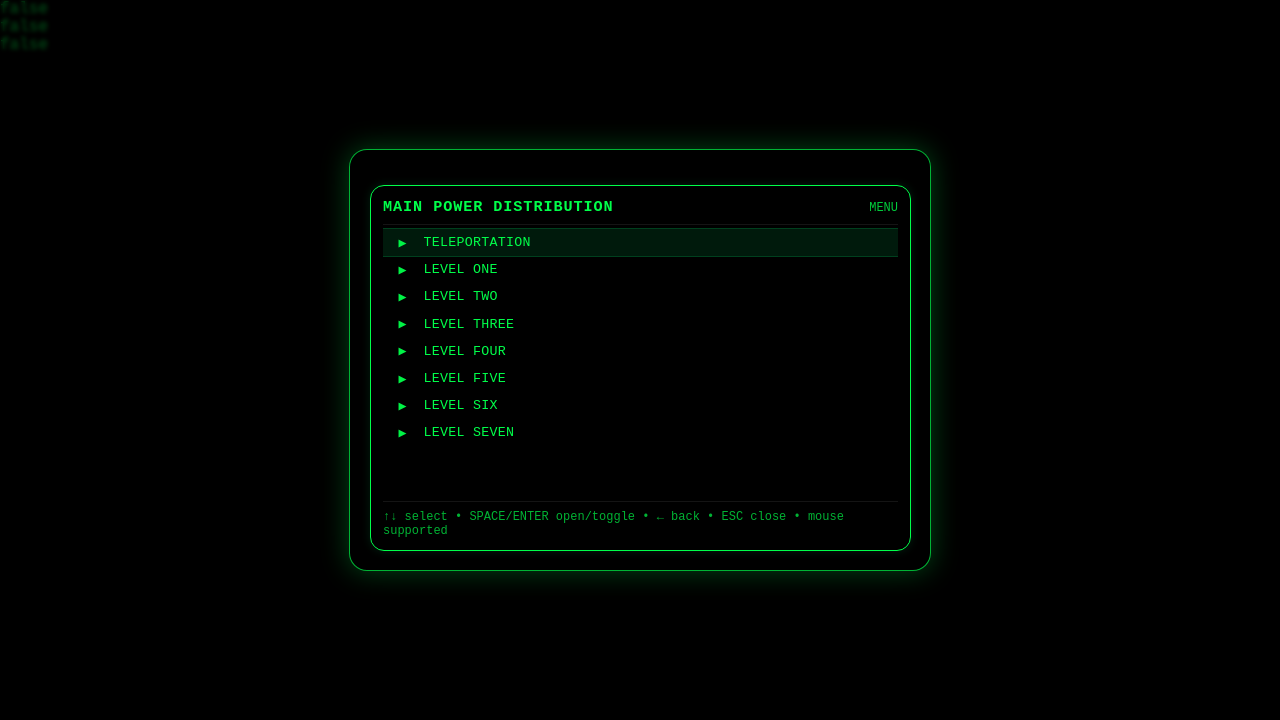
Power station terminal › can turn a normal power section on and off through the menu
Click the option "▶ LEVEL FIVE".
click(465, 379)  # box [383,365,898,392]
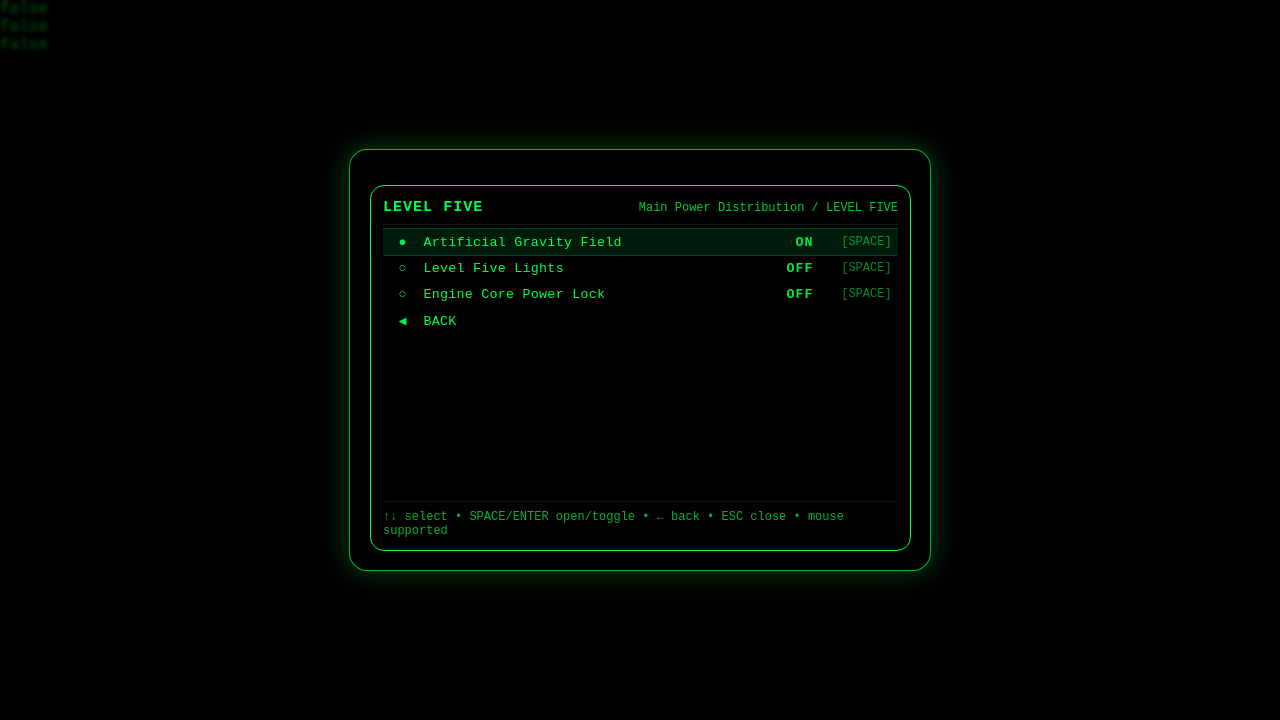
Click the option "○ Level Five Lights OFF [SPACE]".
click(494, 268)  # box [383,255,898,281]
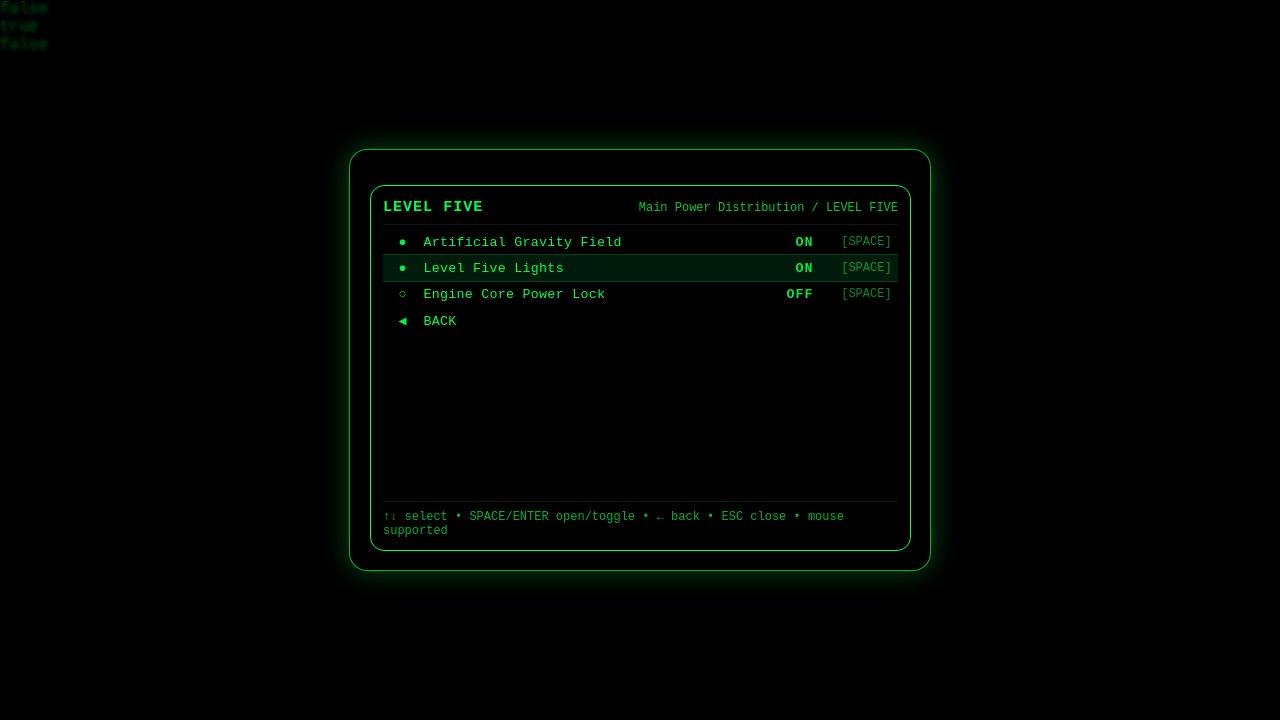
Expected: the text with test id "lights-level-five" reads "true", [0,18,38,36]
Click the option "● Level Five Lights ON [SPACE]".
click(494, 268)  # box [383,255,898,281]
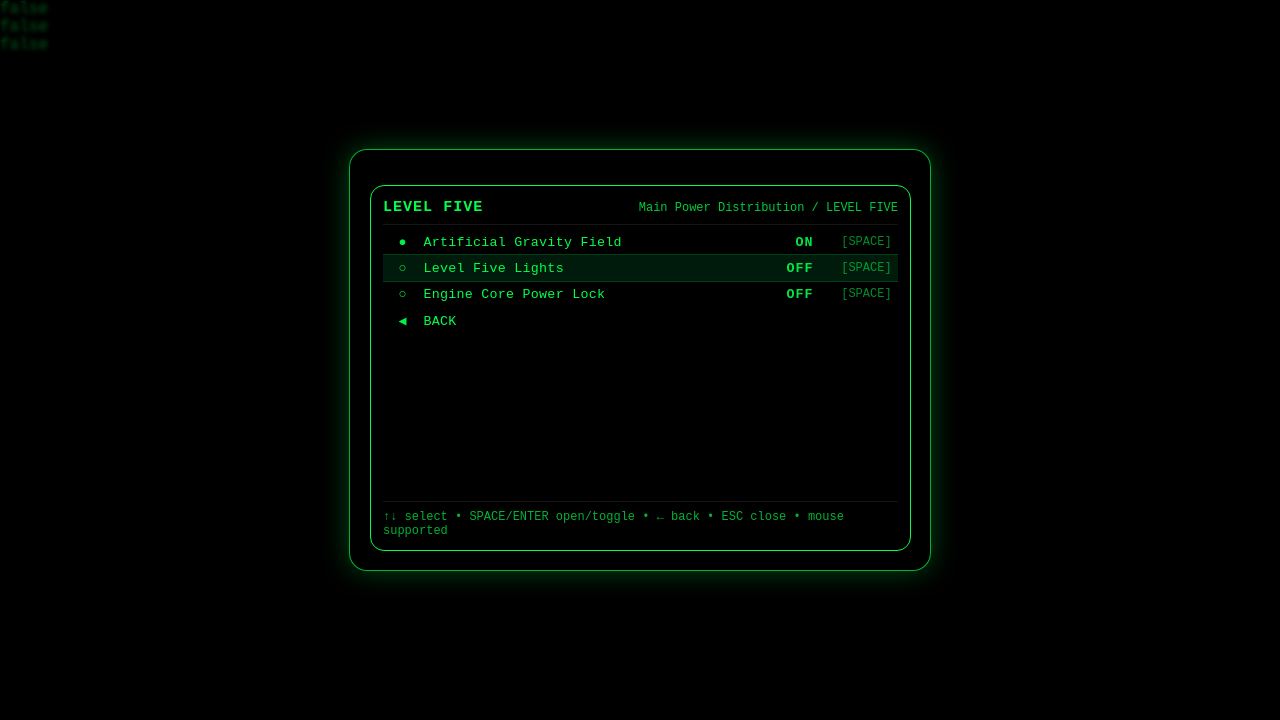
Result: the text with test id "lights-level-five" reads "false" at [0,18,48,36]
